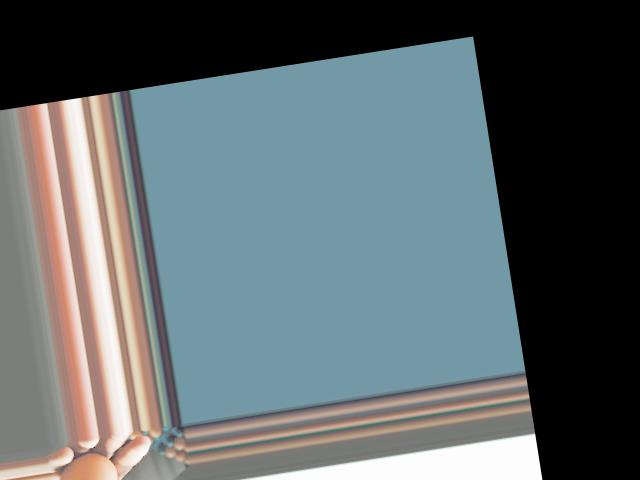egg: (52, 448, 120, 480)
